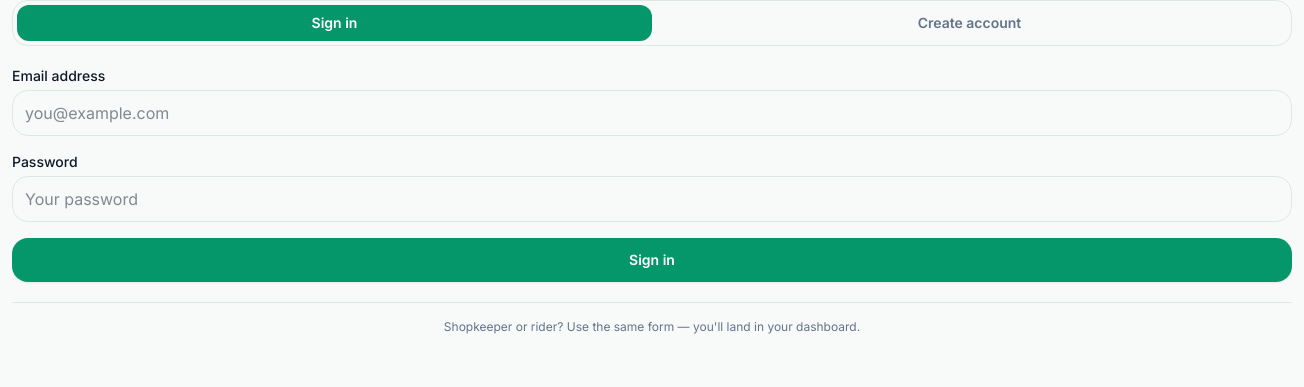
Test: LoginFlow — sign in › validates the email and password before submitting
Type "not-an-email" into the field labelled "Email address" at {"x": 652, "y": 113}, box [12, 90, 1292, 136]
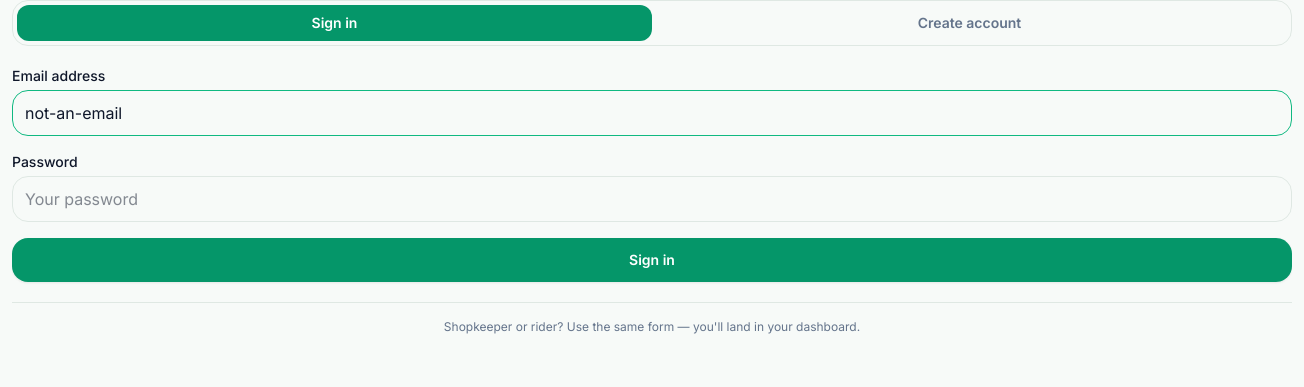
Type "password123" into the password field labelled "Password" at {"x": 652, "y": 199}, box [12, 176, 1292, 222]
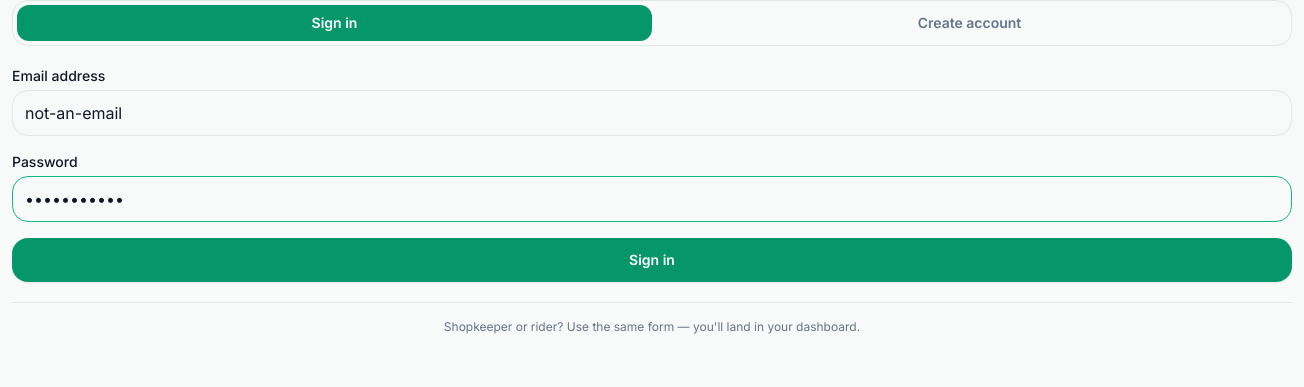
Click the button "Sign in" at {"x": 652, "y": 260}, box [12, 238, 1292, 282]
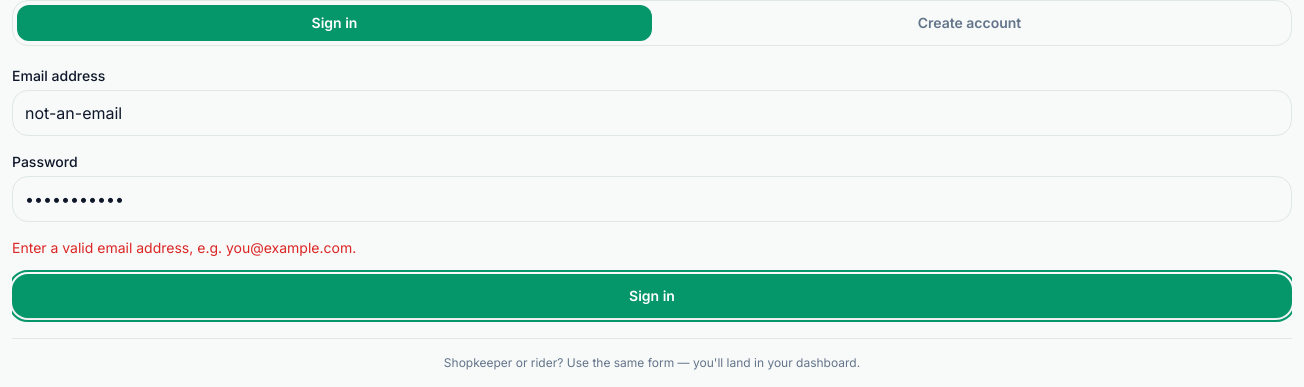
Result: the message shows "valid email" at [12, 239, 356, 256]
